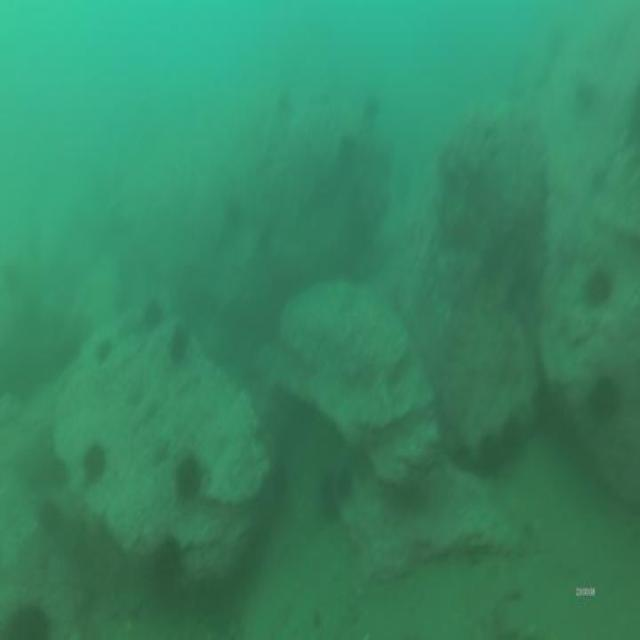echinus: (318, 452, 348, 512), (175, 460, 203, 502), (11, 608, 46, 640), (589, 376, 615, 419), (154, 536, 178, 578), (588, 266, 608, 304), (84, 450, 100, 482), (144, 300, 160, 329), (171, 334, 190, 356)
